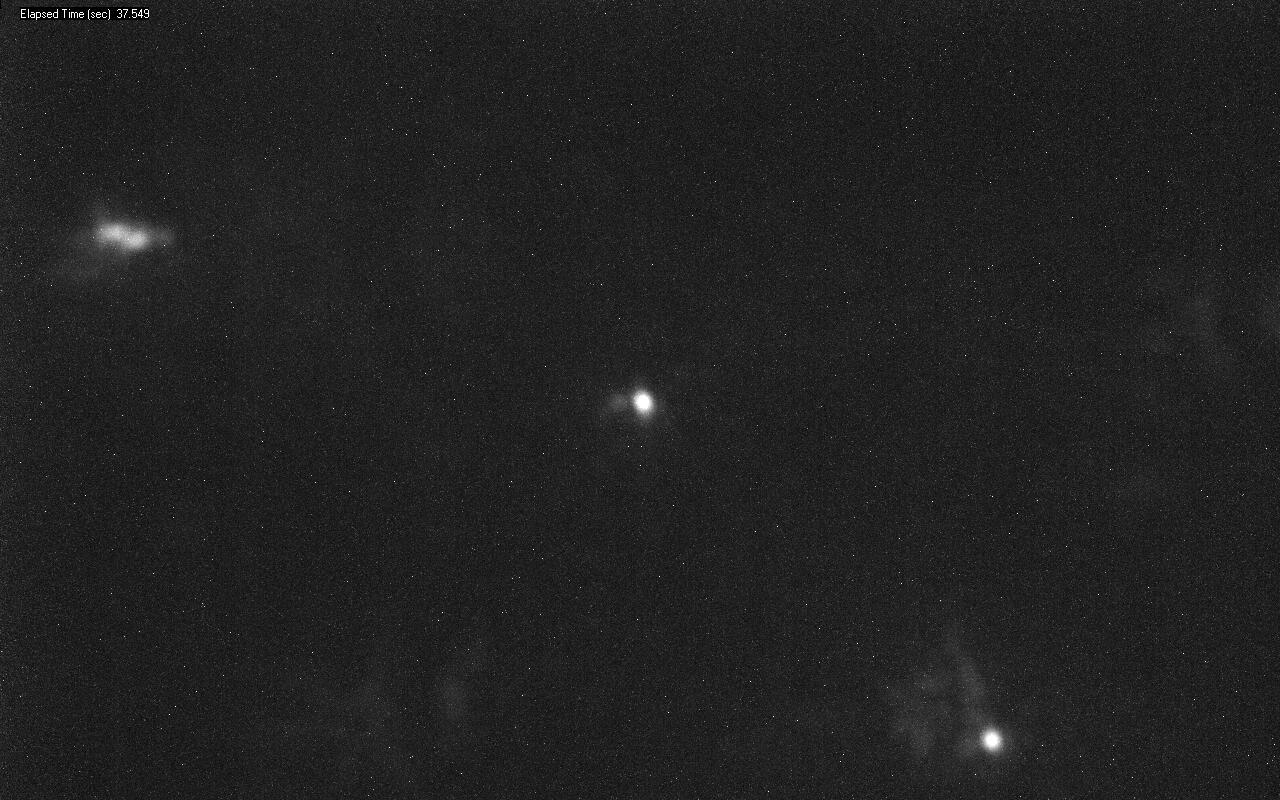Bead: (981, 726, 1004, 754), (631, 390, 654, 417)
